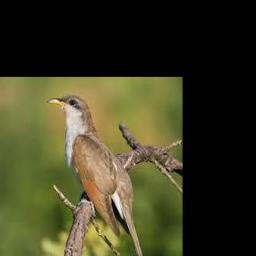Cuckoo: (47, 95, 150, 256)
